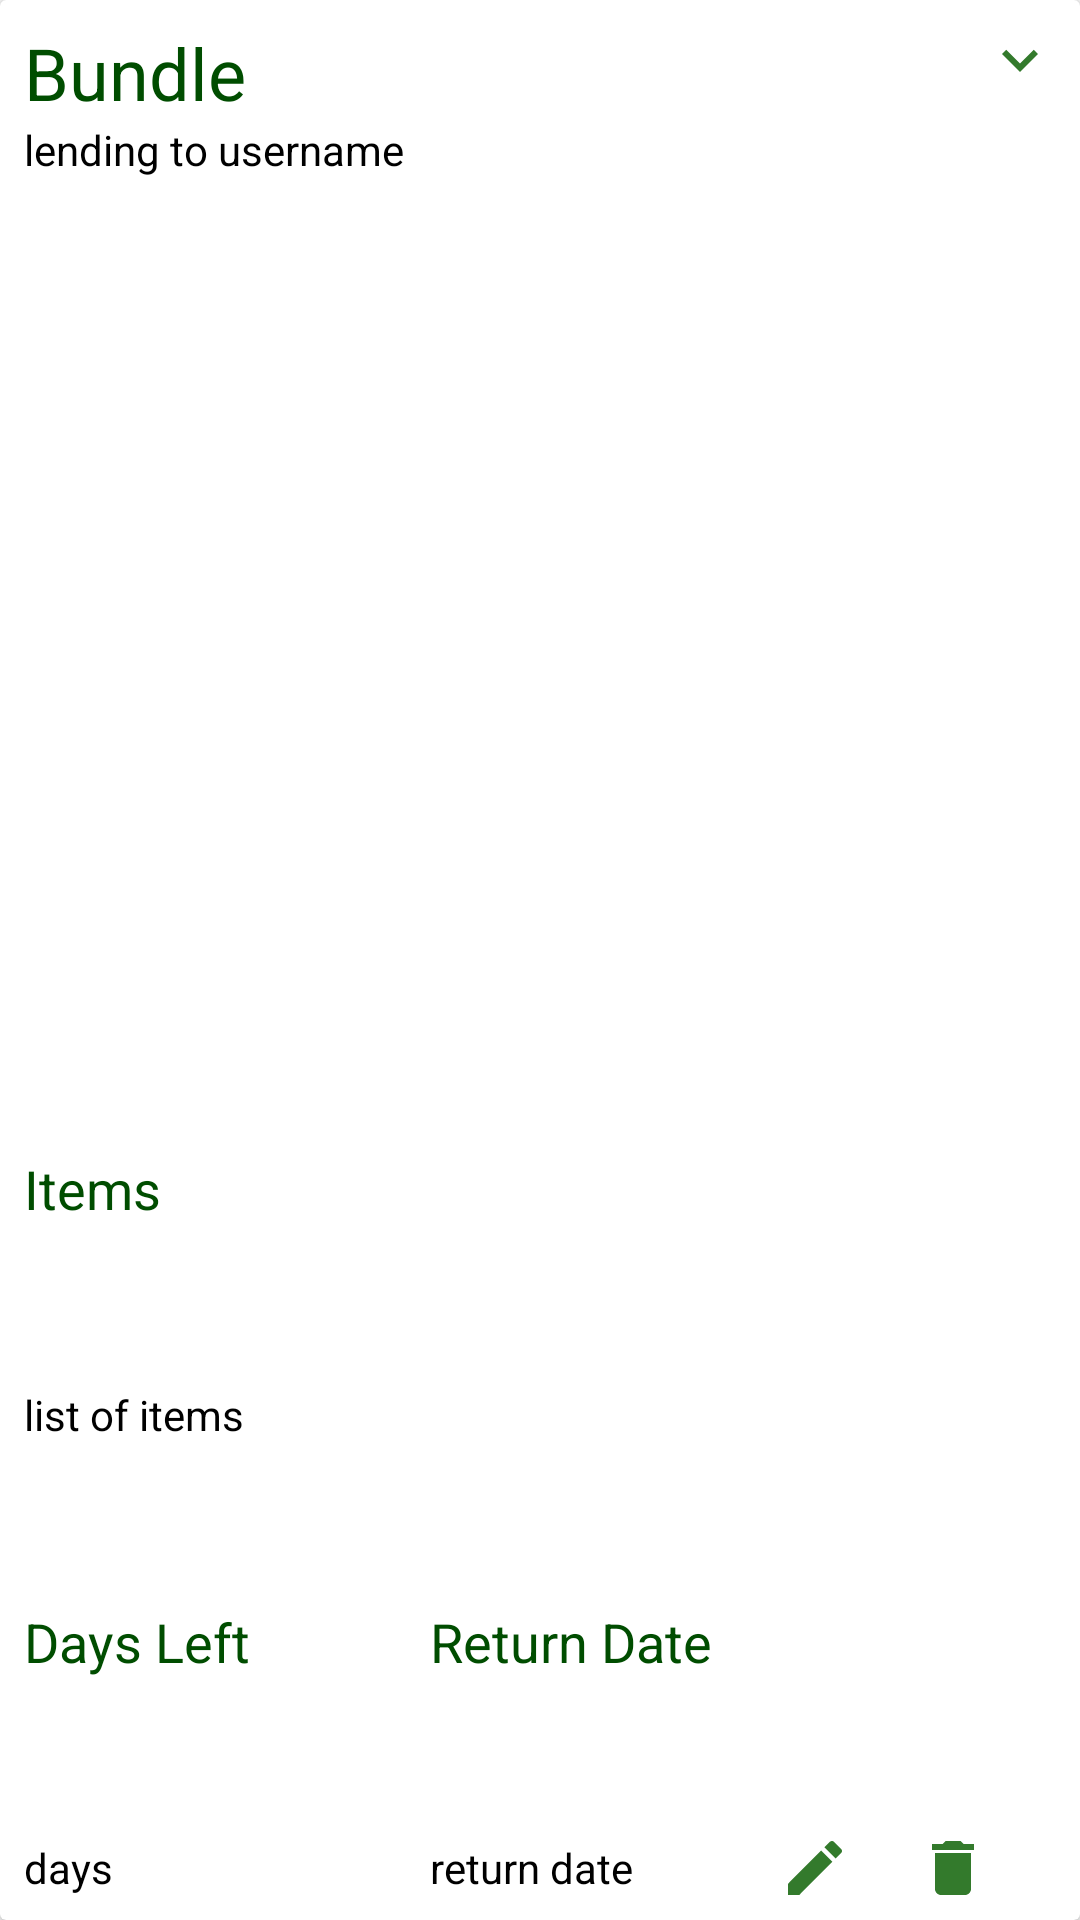

Icons on this 1080px×1920px Android screen, each with the point to tap as (x=x, y=y):
delete: (x=953, y=1868)
edit: (x=815, y=1868)
expand: (x=1020, y=61)
